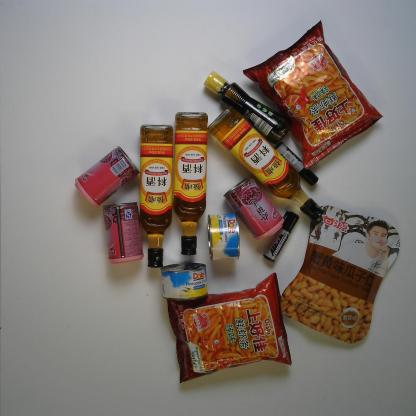Canned Food: (74, 146, 139, 206), (226, 177, 285, 241), (102, 200, 144, 264), (203, 210, 243, 262), (159, 261, 209, 301)
Dried Fruit: (276, 202, 402, 346)
Puffed Food: (239, 16, 381, 167), (163, 273, 294, 385)
Seasoner: (208, 107, 326, 223), (201, 69, 289, 144), (170, 109, 209, 257), (139, 122, 176, 269)
Stationery: (274, 140, 320, 186), (264, 210, 298, 262)
